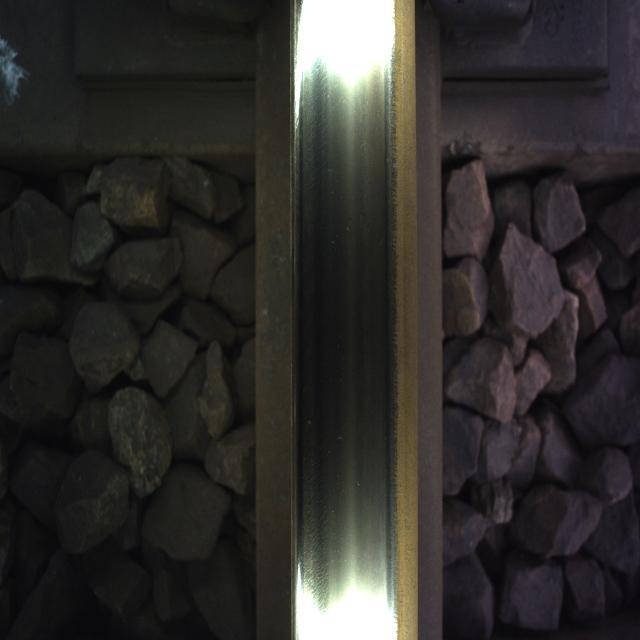break: (300, 61, 390, 585)
